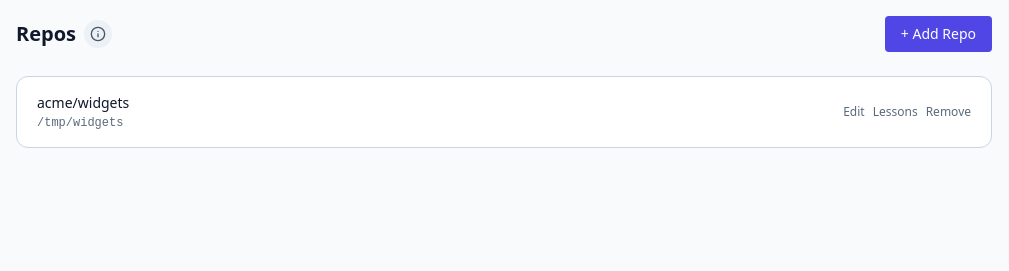
ReposPage — Lessons panel › opens a per-repo lessons panel via the Lessons button
Expected: the text "acme/widgets" is shown, [37, 93, 129, 112]
What coordinates should you click on to do the following:
click the button "Lessons"
I would click on:
 (895, 112)
Its box is [873, 104, 918, 120].
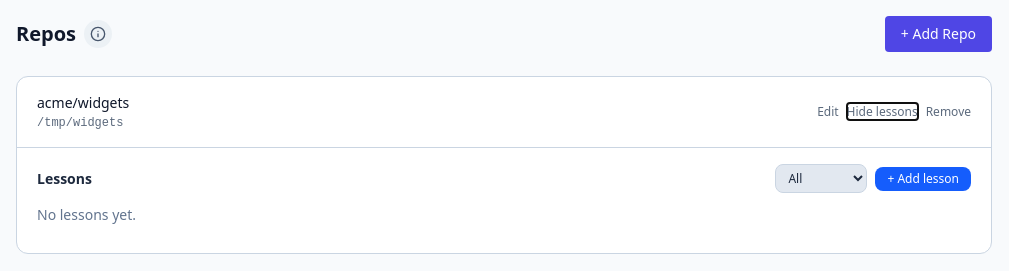
Expected: the text "No lessons yet." is shown, [37, 205, 136, 224]
Expected: the button "Hide lessons" is expanded, [847, 104, 918, 120]
